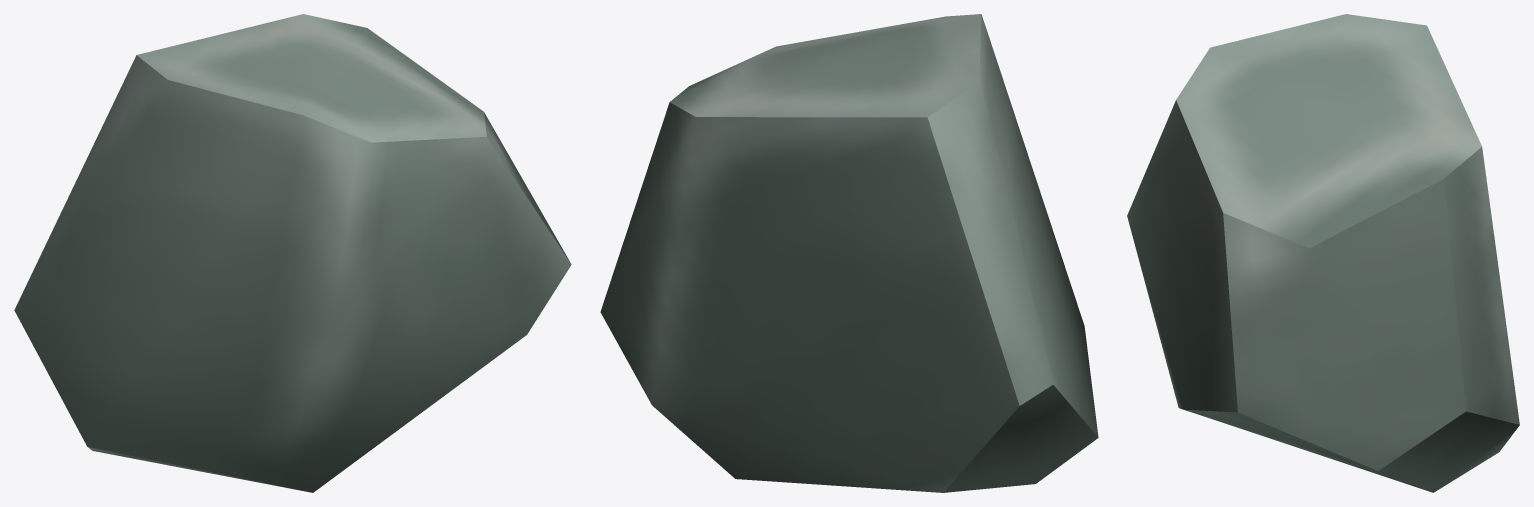
File: Ore.fbx
The picture shows the model from 3 angles, left to right: view 1: azimuth 30°, elevation 25°; view 2: azimuth 150°, elevation 25°; view 3: azimuth 270°, elevation 25°; orthographic projection. The views are drawn at different scales.
Visible parts, largest first — view 1: field_rocks_ore_001f; view 2: field_rocks_ore_001f; view 3: field_rocks_ore_001f.
Boxes of the visible parts, left/top/right/bottom form: field_rocks_ore_001f: left=14, top=14, right=571, bottom=492; field_rocks_ore_001f: left=600, top=14, right=1098, bottom=492; field_rocks_ore_001f: left=1127, top=14, right=1519, bottom=492.
Size of the model in its own units: 23.64 by 18.02 by 17.52.
